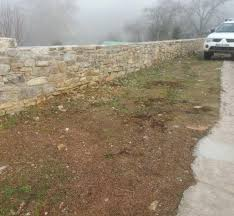Muro: (1, 40, 98, 108), (101, 45, 167, 77)
Vehiculo: (201, 16, 234, 63)
